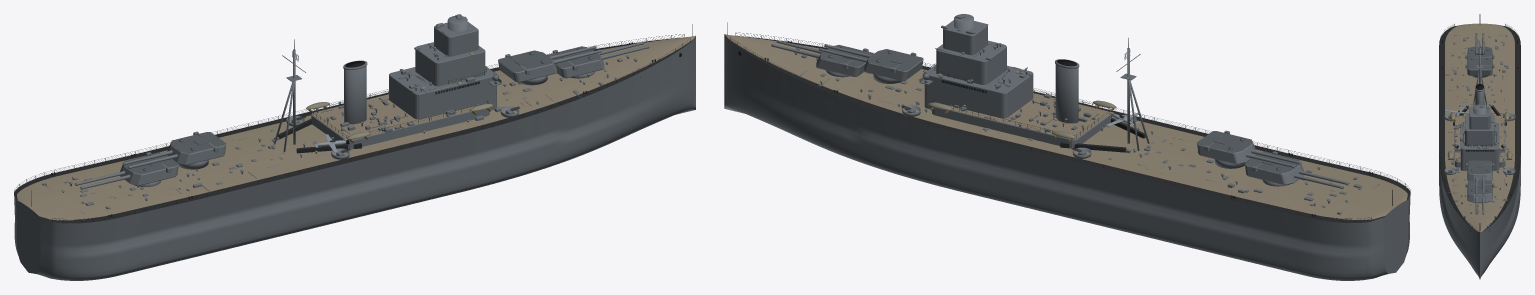
File: queen_elizabeth.glb
3 renders of one model, left to right at view 1: azimuth 30°, elevation 25°; view 2: azimuth 150°, elevation 25°; view 3: azimuth 270°, elevation 25°, orthographic. The views are drawn at different scales.
Parts seen in each view (by area): view 1: queen_elizabeth, T_2_malla, T_1_malla, T_3_malla, T_0_malla; view 2: queen_elizabeth, T_2_malla, T_1_malla, T_3_malla, T_0_malla; view 3: queen_elizabeth, T_1_malla, T_0_malla, T_2_malla, T_3_malla, C_0, C_1, C_2, C_3.
Boxes of the visible parts, left/top/right/bottom form: queen_elizabeth: left=14, top=14, right=695, bottom=280; T_2_malla: left=167, top=131, right=226, bottom=165; T_1_malla: left=498, top=50, right=556, bottom=82; T_3_malla: left=120, top=152, right=178, bottom=185; T_0_malla: left=547, top=46, right=604, bottom=78; queen_elizabeth: left=724, top=14, right=1410, bottom=280; T_2_malla: left=1197, top=130, right=1256, bottom=164; T_1_malla: left=864, top=49, right=923, bottom=80; T_3_malla: left=1244, top=151, right=1303, bottom=185; T_0_malla: left=816, top=45, right=874, bottom=76; queen_elizabeth: left=1439, top=14, right=1520, bottom=279; T_1_malla: left=1465, top=160, right=1494, bottom=181; T_0_malla: left=1465, top=180, right=1494, bottom=202; T_2_malla: left=1465, top=56, right=1494, bottom=75; T_3_malla: left=1465, top=46, right=1494, bottom=61; C_0: left=1475, top=197, right=1484, bottom=214; C_1: left=1475, top=177, right=1484, bottom=194; C_2: left=1475, top=42, right=1484, bottom=55; C_3: left=1475, top=33, right=1484, bottom=46.
Bounding box in the file's own units: 197 × 47.5 × 31.7.
